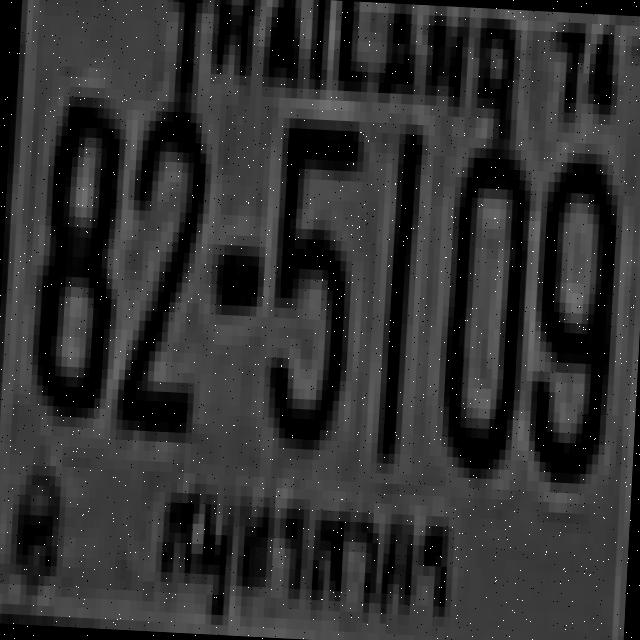0: (434, 137, 528, 470)
1: (374, 128, 420, 460)
2: (117, 100, 209, 423)
5: (261, 112, 360, 446)
8: (28, 85, 120, 409)
9: (524, 142, 618, 474)
SamutSakhon: (139, 462, 464, 640)
